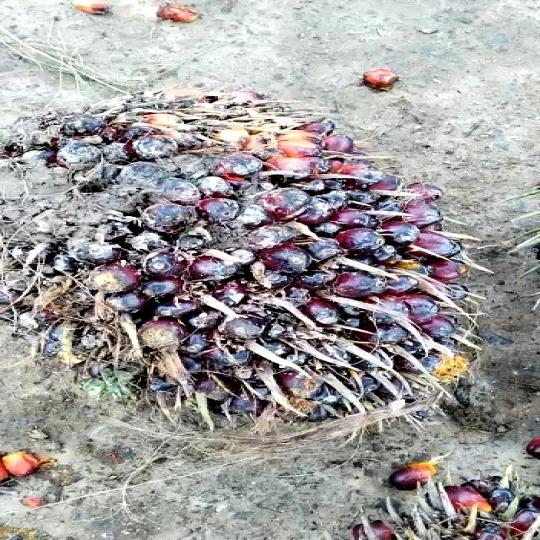mentah: (0, 81, 479, 421)
